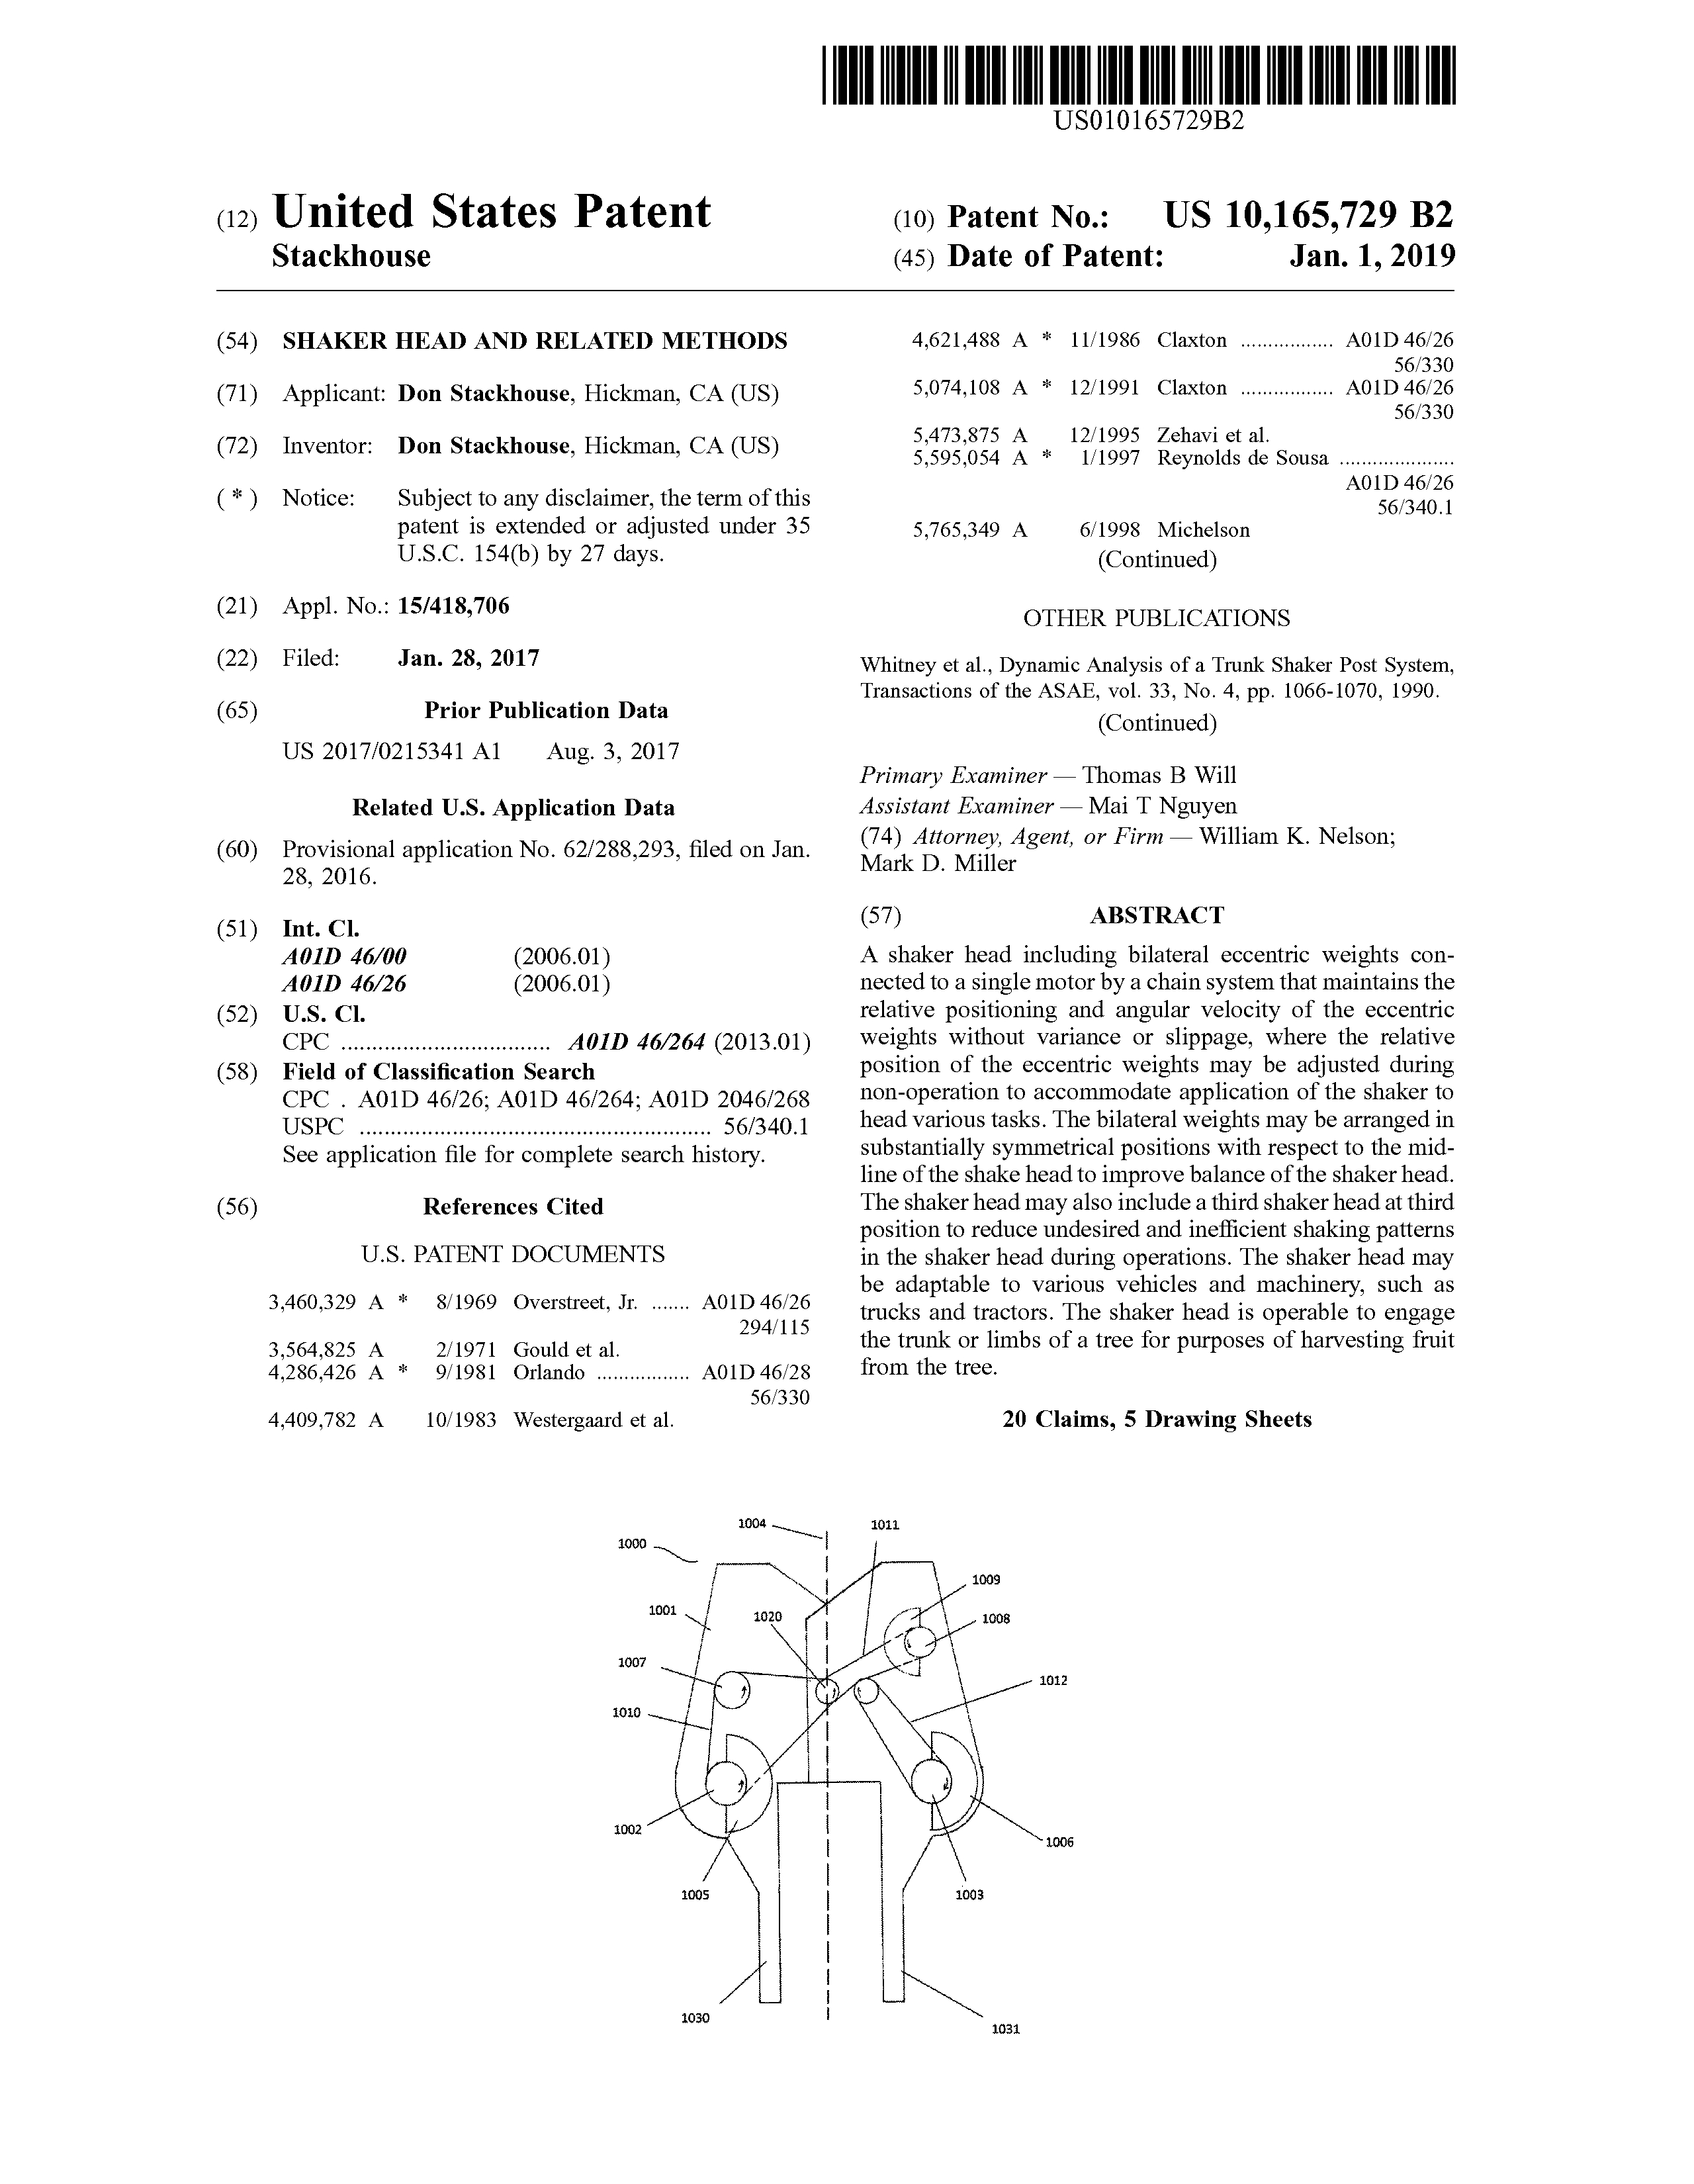patent image: (569, 1479, 1122, 2075)
